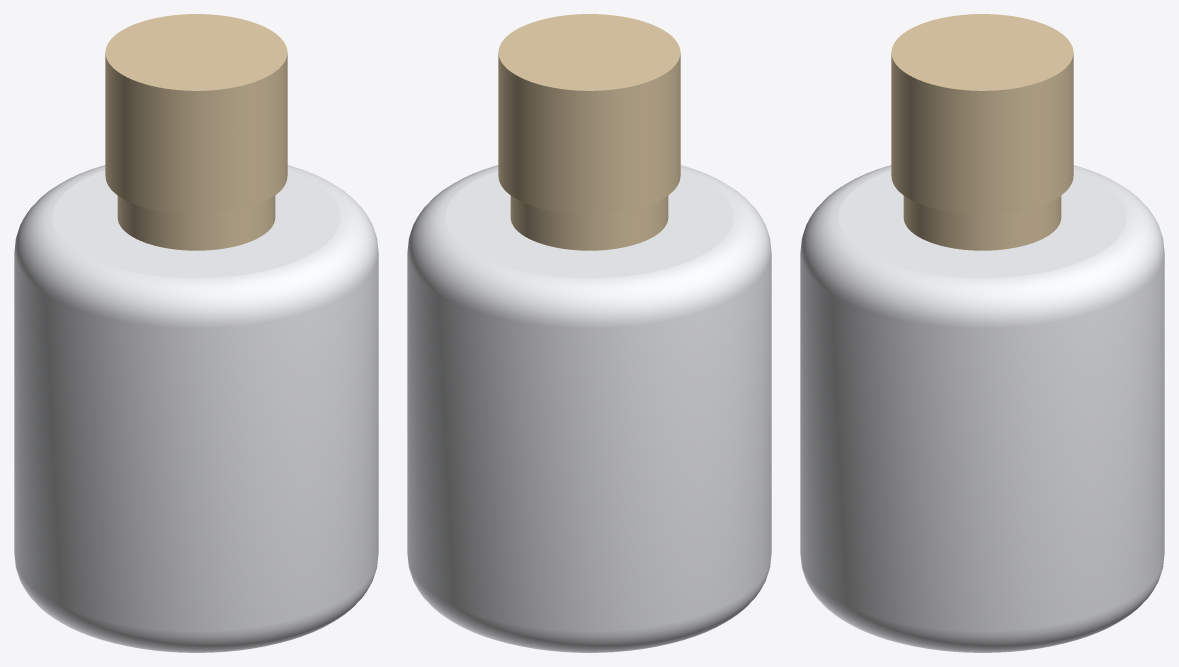
Rendered from bottle.glb.
3 views of the same model, side by side, from view 1: azimuth 30°, elevation 25°; view 2: azimuth 150°, elevation 25°; view 3: azimuth 270°, elevation 25° (orthographic).
Visible parts, largest first — view 1: Glass, Cap, Collar; view 2: Glass, Cap, Collar; view 3: Glass, Cap, Collar.
Boxes of the visible parts, left/top/right/bottom form: Glass: left=14, top=165, right=378, bottom=652; Cap: left=105, top=14, right=287, bottom=214; Collar: left=117, top=196, right=275, bottom=250; Glass: left=407, top=165, right=771, bottom=652; Cap: left=498, top=14, right=680, bottom=214; Collar: left=510, top=196, right=668, bottom=250; Glass: left=800, top=165, right=1164, bottom=652; Cap: left=891, top=14, right=1073, bottom=214; Collar: left=903, top=196, right=1061, bottom=250.
Size of the model in its own units: 2.4 by 3.9 by 2.4.
